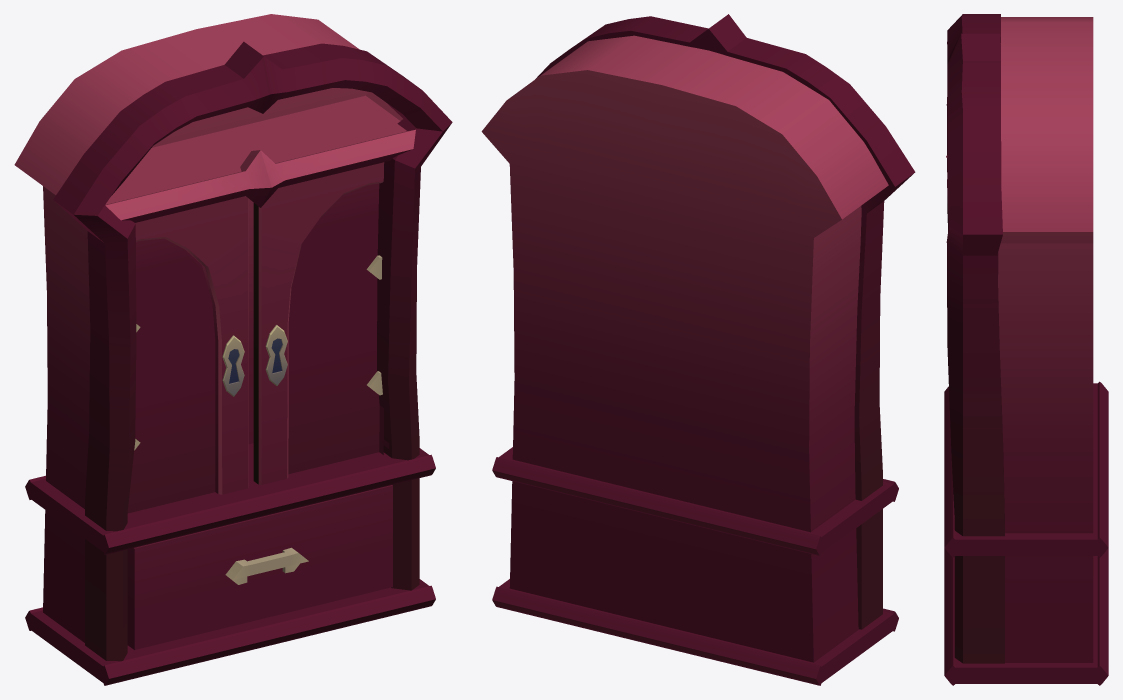
Rendered from wardrobe.fbx.
3 views of the same model, side by side, from view 1: azimuth 30°, elevation 25°; view 2: azimuth 150°, elevation 25°; view 3: azimuth 270°, elevation 25° (orthographic). The views are drawn at different scales.
Visible parts, largest first — view 1: wardrobe, wardrobedoor_l, wardrobedoor_r, wardrobe_drawer; view 2: wardrobe; view 3: wardrobe.
Part boxes in pixels (bbox=[...]): wardrobe: bbox=[14, 14, 452, 685]; wardrobedoor_l: bbox=[253, 162, 384, 484]; wardrobedoor_r: bbox=[127, 196, 248, 513]; wardrobe_drawer: bbox=[127, 485, 392, 649]; wardrobe: bbox=[481, 14, 915, 685]; wardrobe: bbox=[944, 14, 1108, 685].
Bounding box in the file's own units: 1.65 × 2.43 × 0.631.
1 material, 1 textured.
